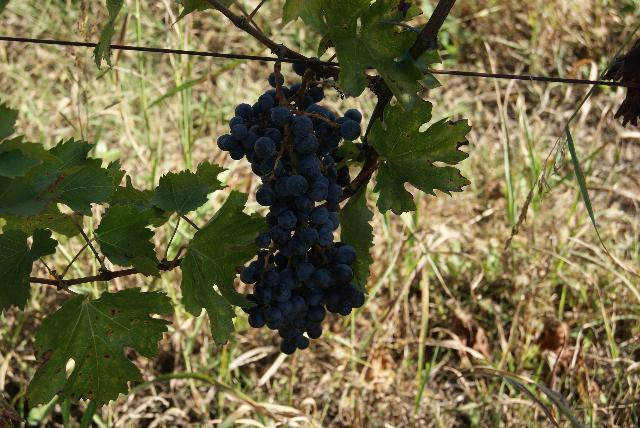grapes: (218, 74, 361, 264), (240, 242, 365, 350)
